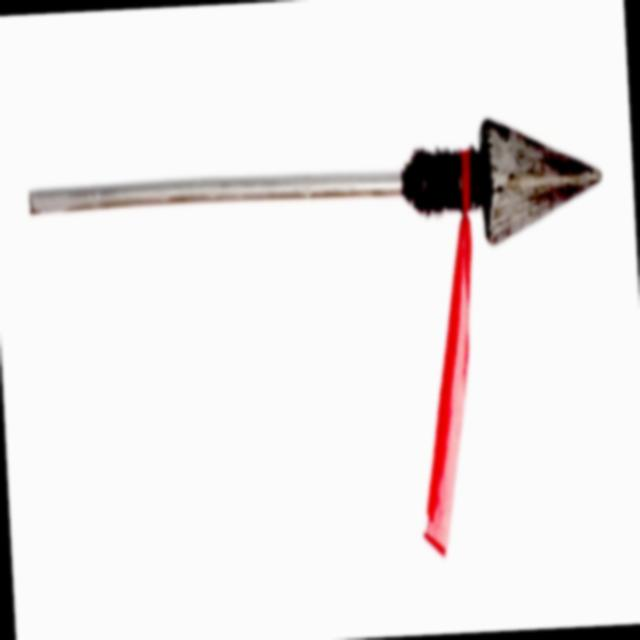spear: (12, 68, 628, 602)
